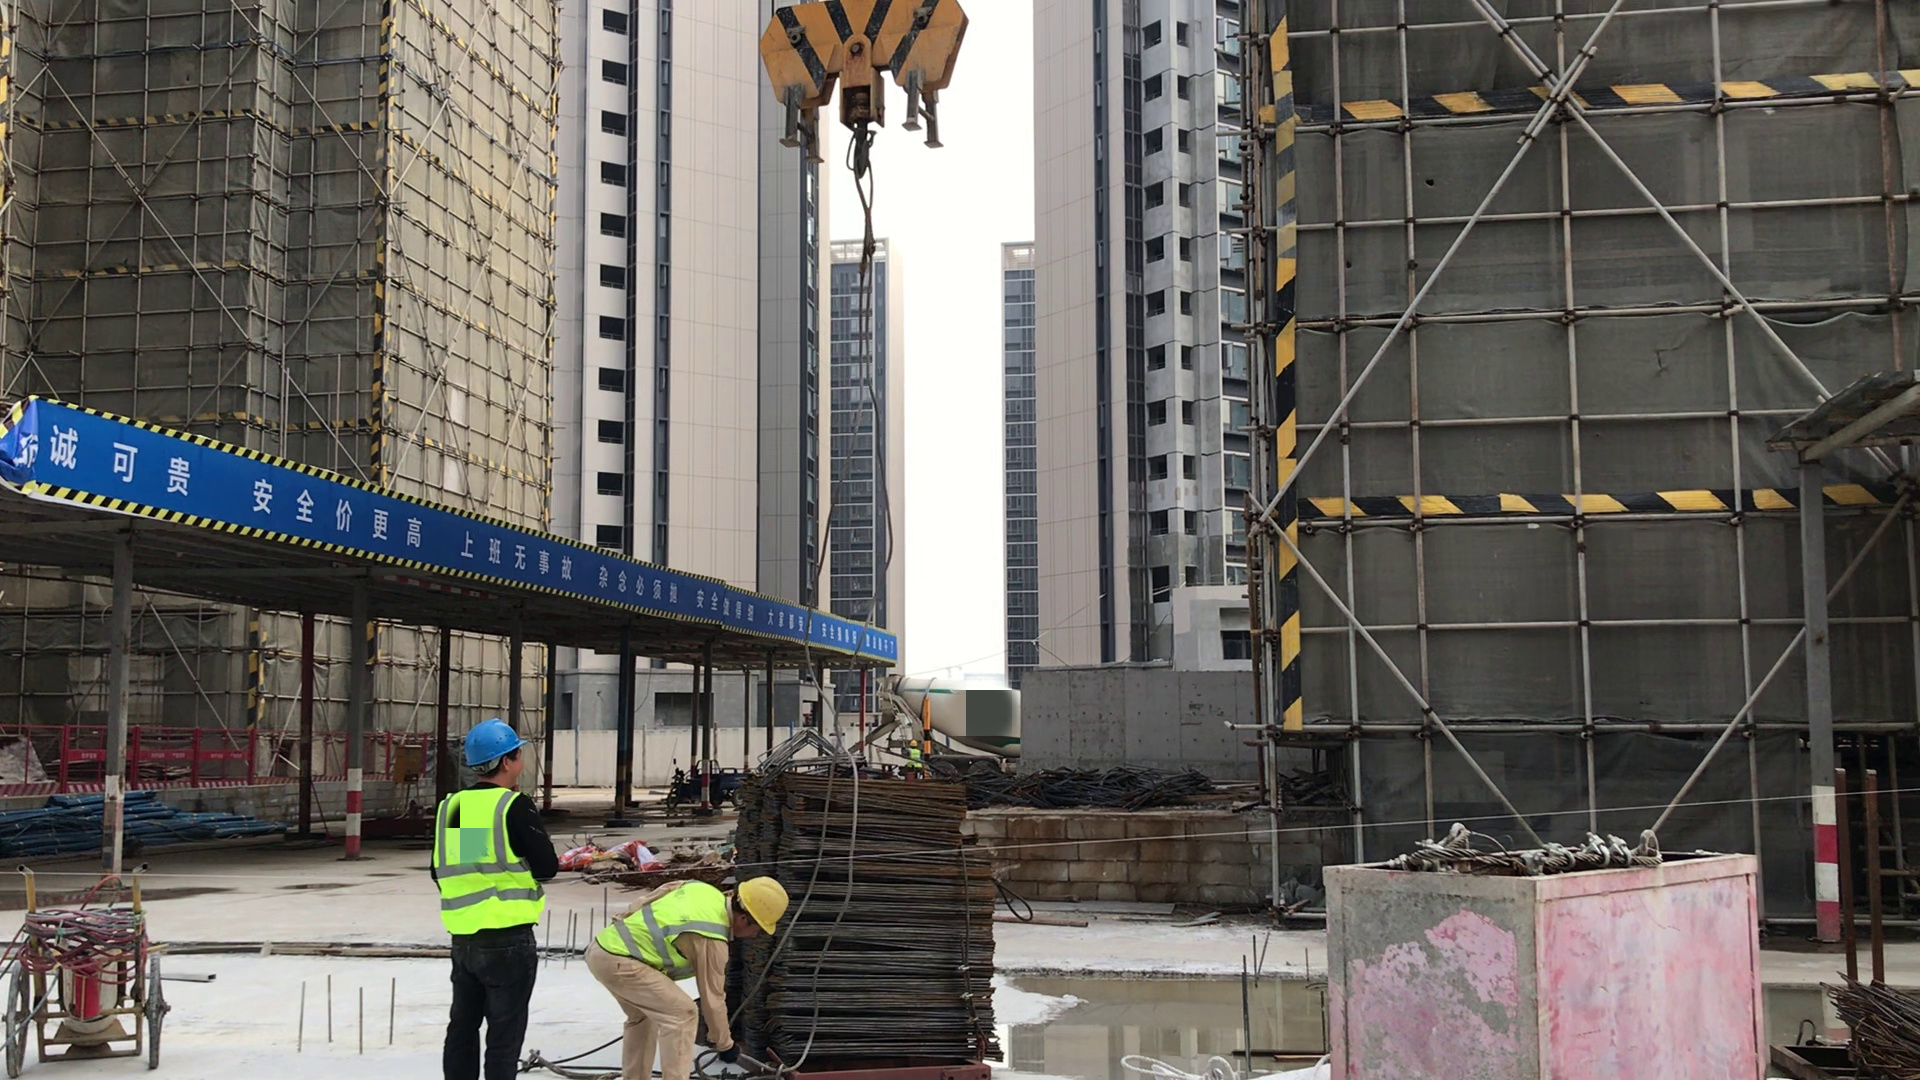ebox: (393, 742, 424, 783)
fence: (7, 720, 444, 791)
helmet: (732, 872, 790, 941), (460, 718, 530, 768), (910, 738, 918, 748)
hook: (771, 1, 969, 180)
person: (584, 862, 785, 1080), (433, 715, 551, 1080), (900, 735, 925, 773)
slogan: (28, 394, 431, 558), (450, 512, 683, 611), (688, 580, 896, 658)
vest: (434, 787, 544, 936), (594, 881, 730, 977), (908, 748, 923, 767)
